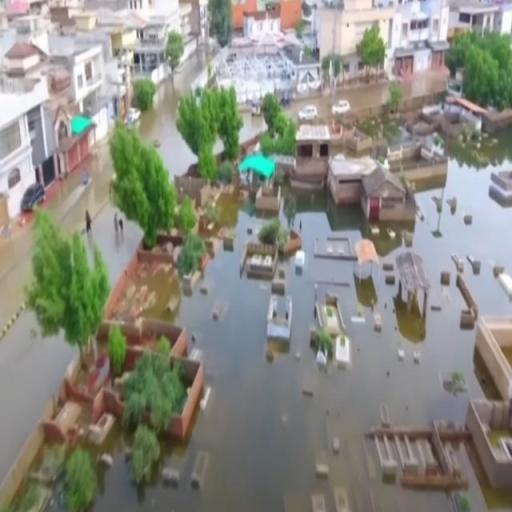flood: (94, 133, 512, 512), (30, 148, 134, 276), (0, 325, 74, 484), (138, 58, 202, 177), (451, 440, 512, 512), (0, 220, 32, 340)
house: (1, 64, 48, 240), (468, 394, 512, 492), (472, 310, 512, 411), (58, 35, 108, 108), (362, 160, 408, 226), (290, 124, 332, 190), (236, 150, 276, 211)
